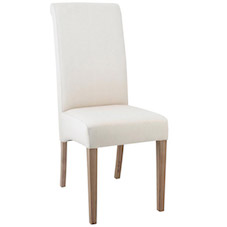chair: (23, 0, 186, 225)
